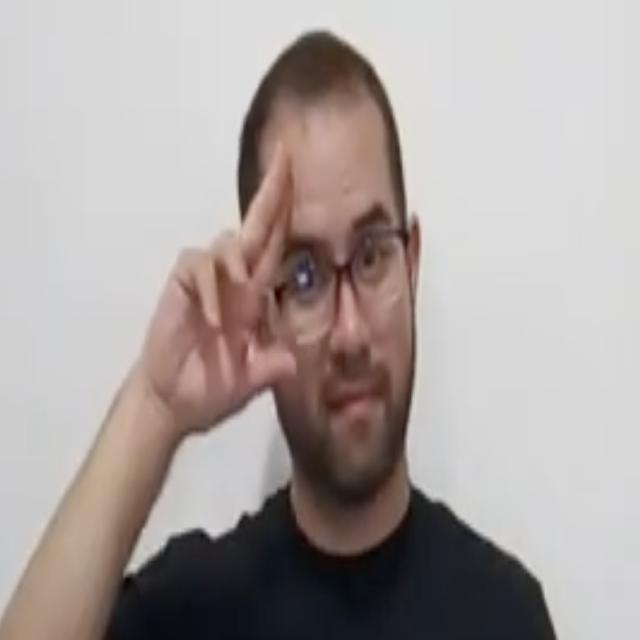hola: (142, 145, 302, 441)
